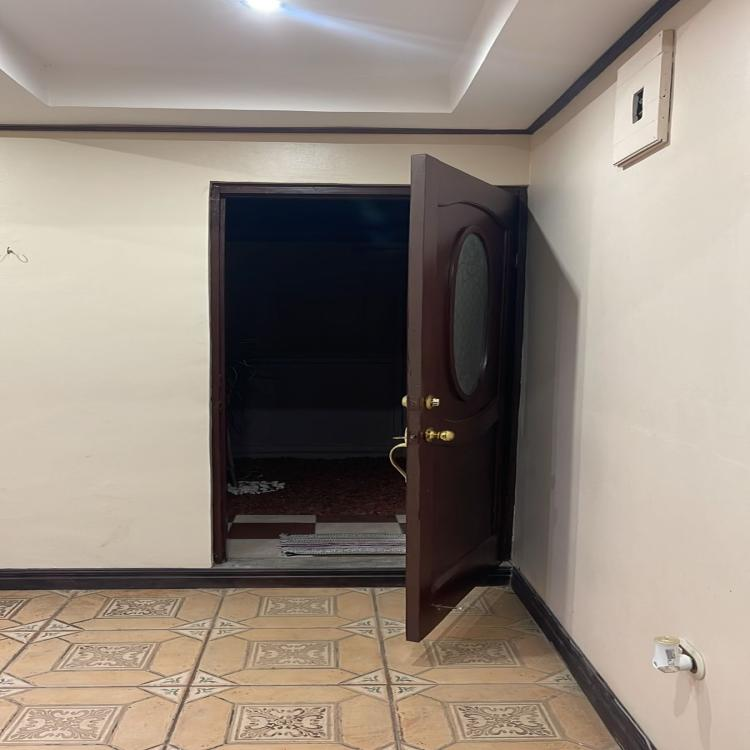OpenDoor: (198, 160, 533, 644)
